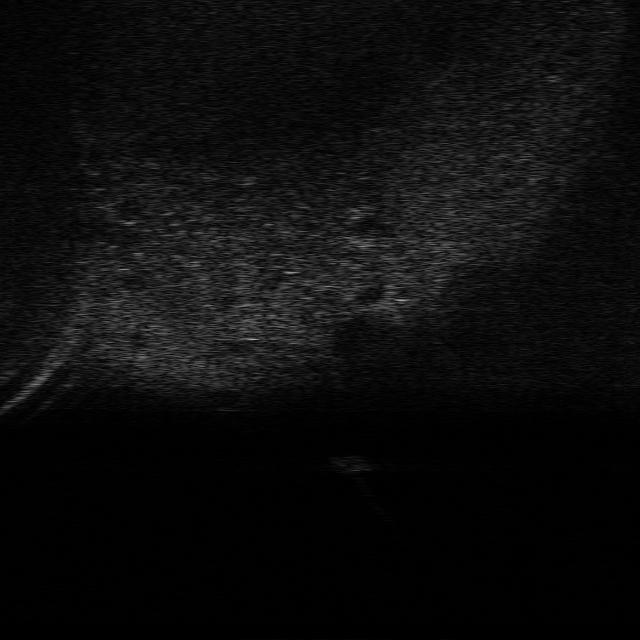cube: (330, 455, 372, 475)
